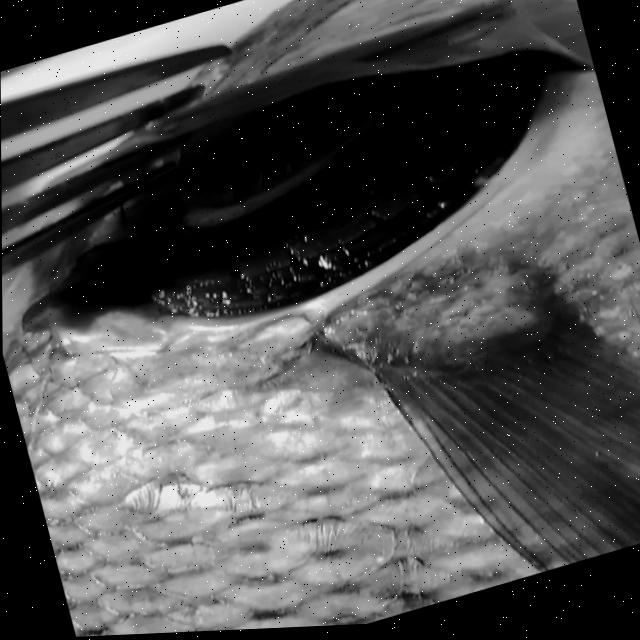Fresh: (0, 1, 611, 384)
